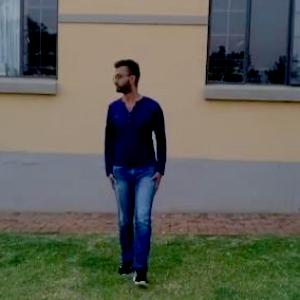follow: (96, 49, 171, 285)
